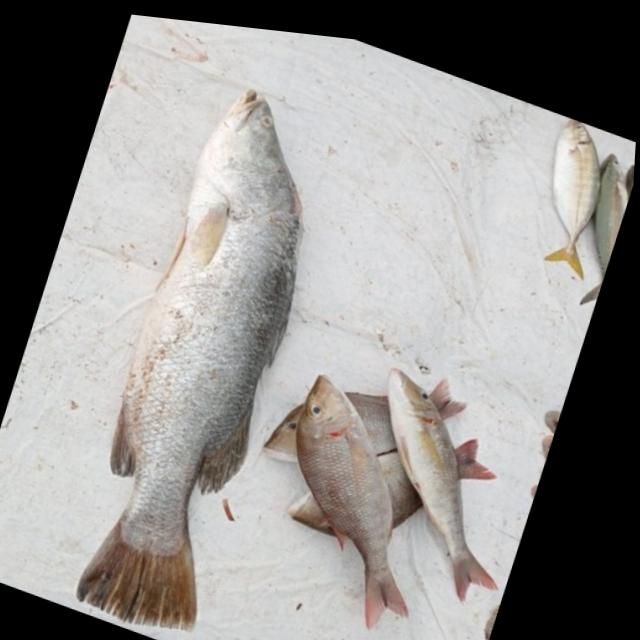Seabass: (51, 64, 356, 640)
